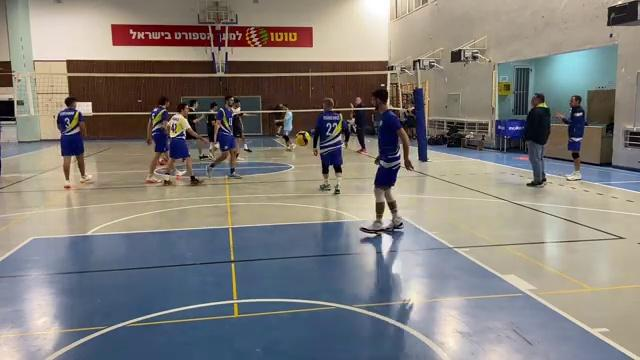ball: (291, 129, 313, 148)
